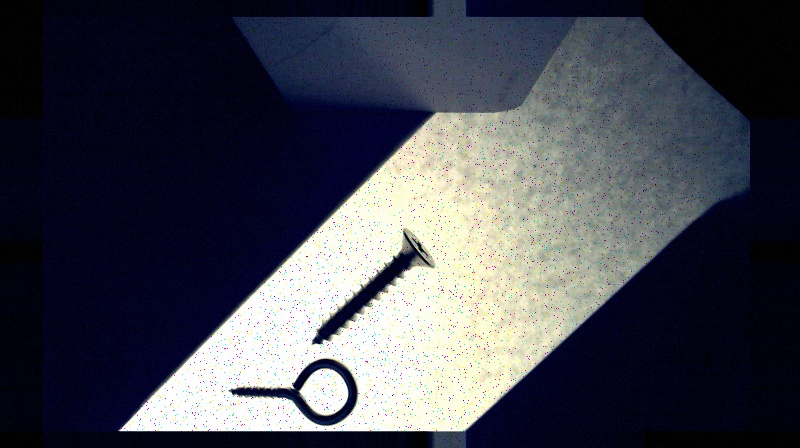O001: (227, 358, 359, 426)
S001: (308, 225, 437, 348)
